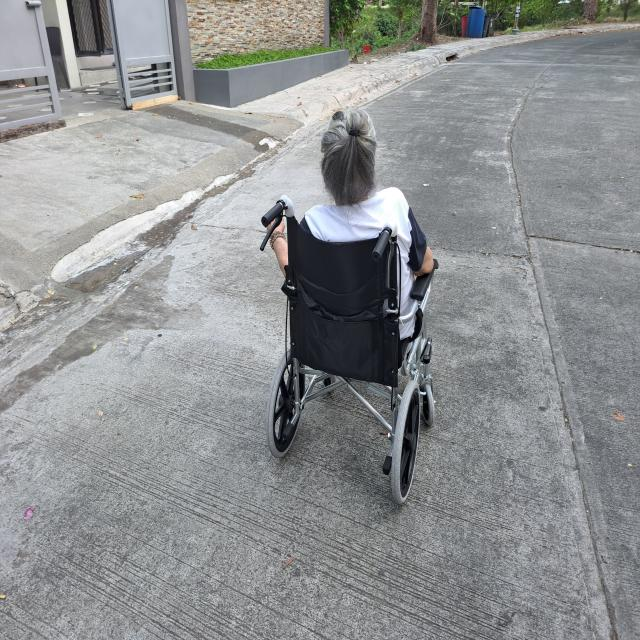wheelchairs: (249, 180, 447, 518)
